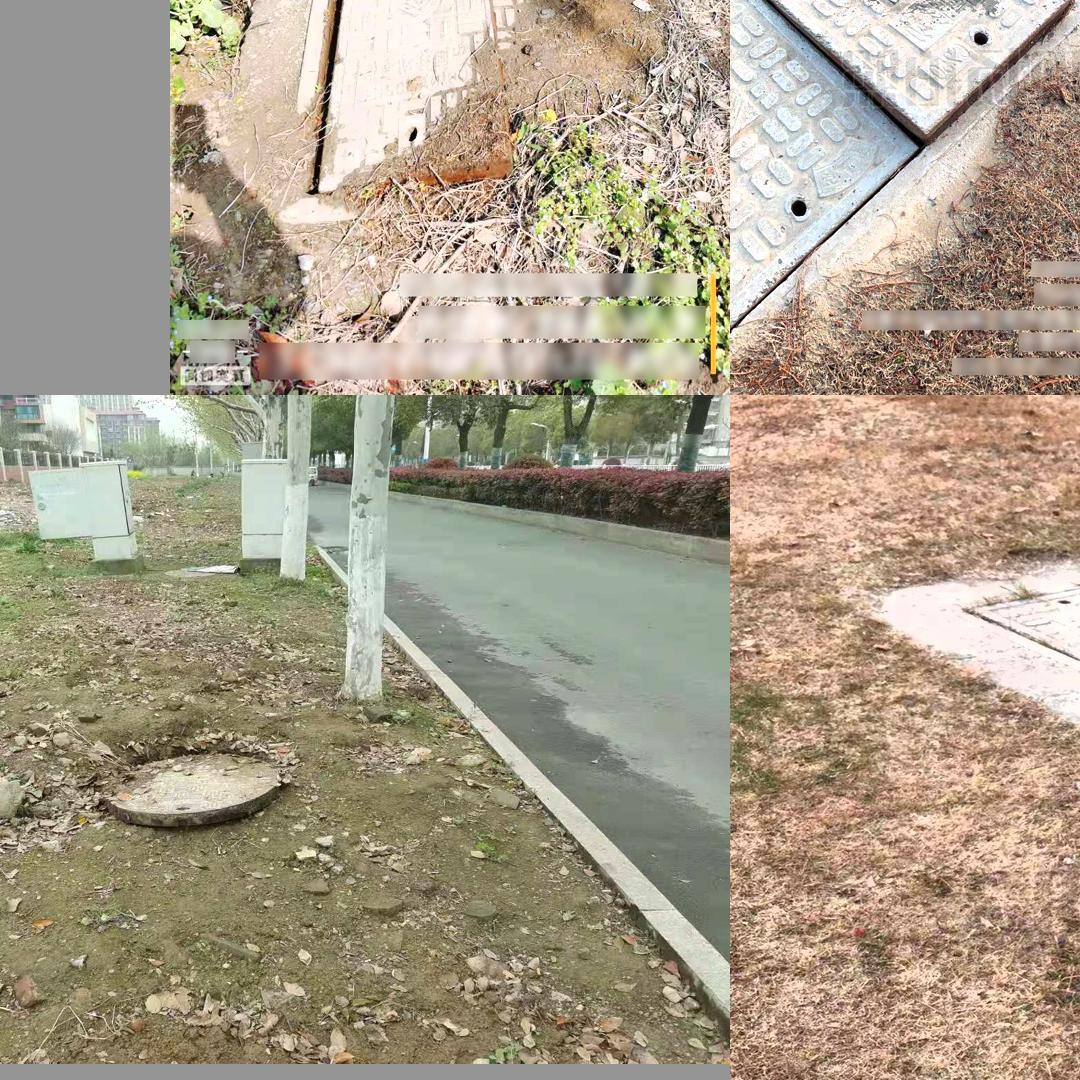uncovered: (730, 0, 1080, 361), (277, 0, 543, 215), (961, 550, 1080, 706), (101, 756, 281, 830)
